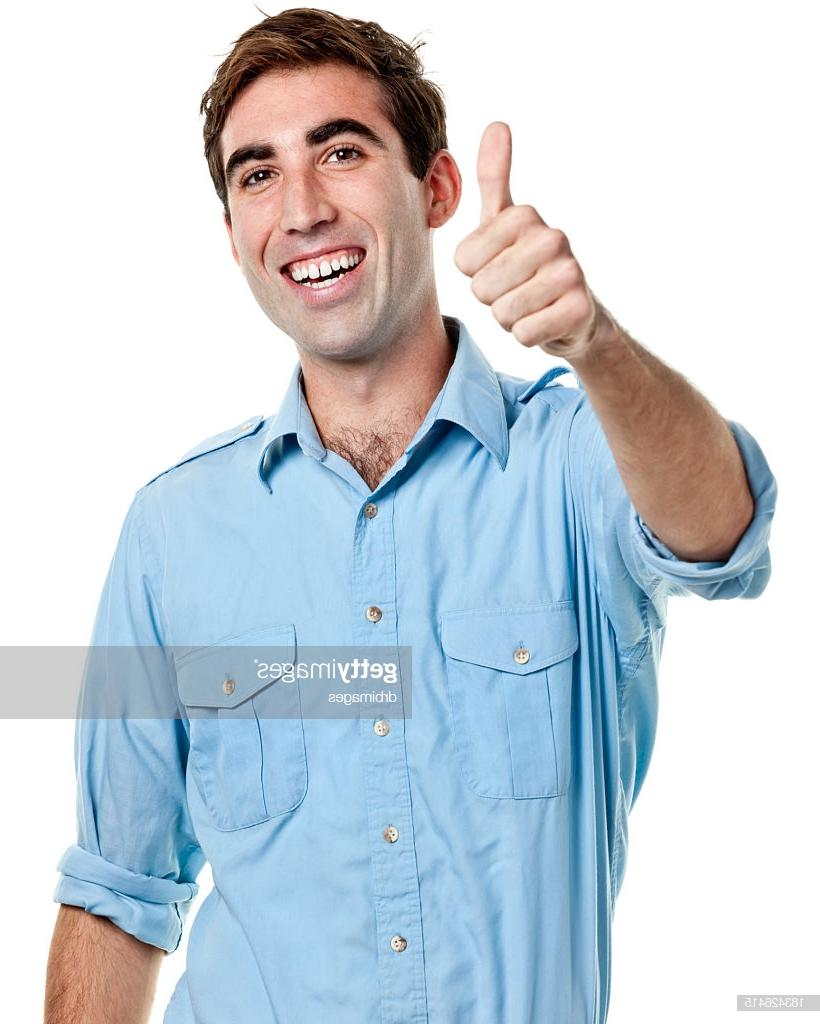thumbsup: (453, 120, 596, 348)
